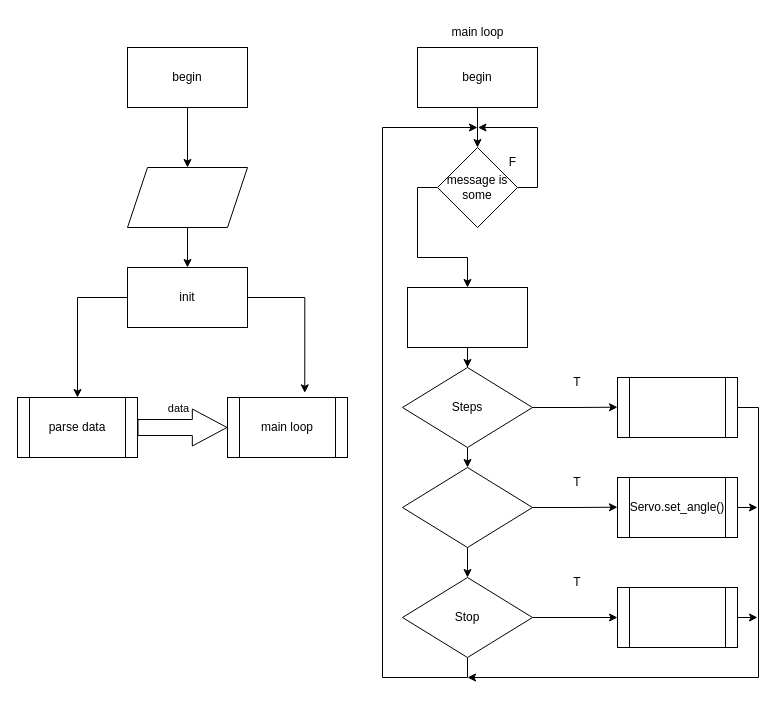
The diagram is 784 pixels wide and 703 high, and some of its shapes have lost their labels. The shapes that lost their labels are listed below. From the top down, each one's centre as x and y in pixels, then its label:
pixel 187 197: pins, config
pixel 467 317: match message
pixel 677 407: Stepper.step()
pixel 467 507: Angle
pixel 677 617: Stepper.stop()
